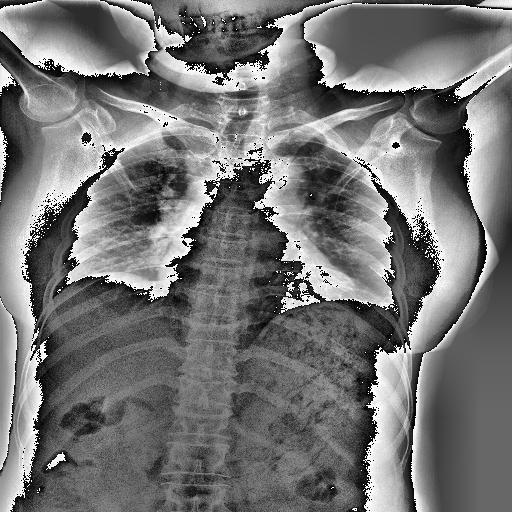0- Aortic enlargement: (244, 158, 306, 216), (258, 156, 308, 218), (250, 158, 310, 204)
3- Cardiomegaly: (153, 254, 362, 308), (157, 263, 367, 309)
